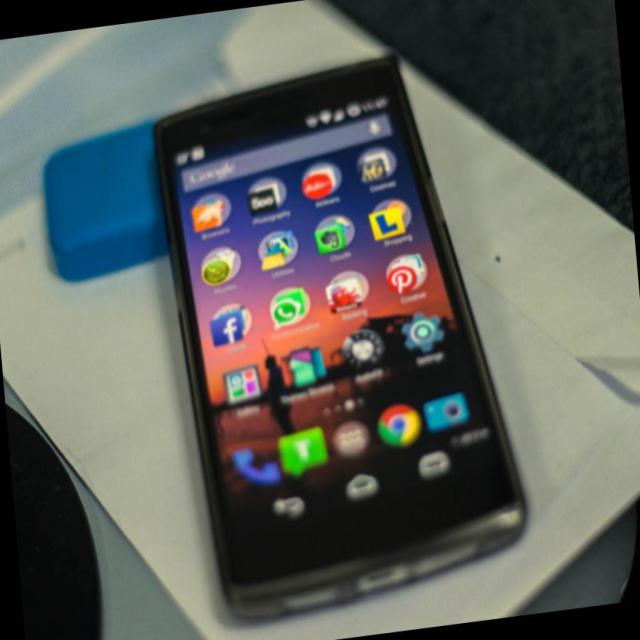handphone: (166, 57, 516, 615)
